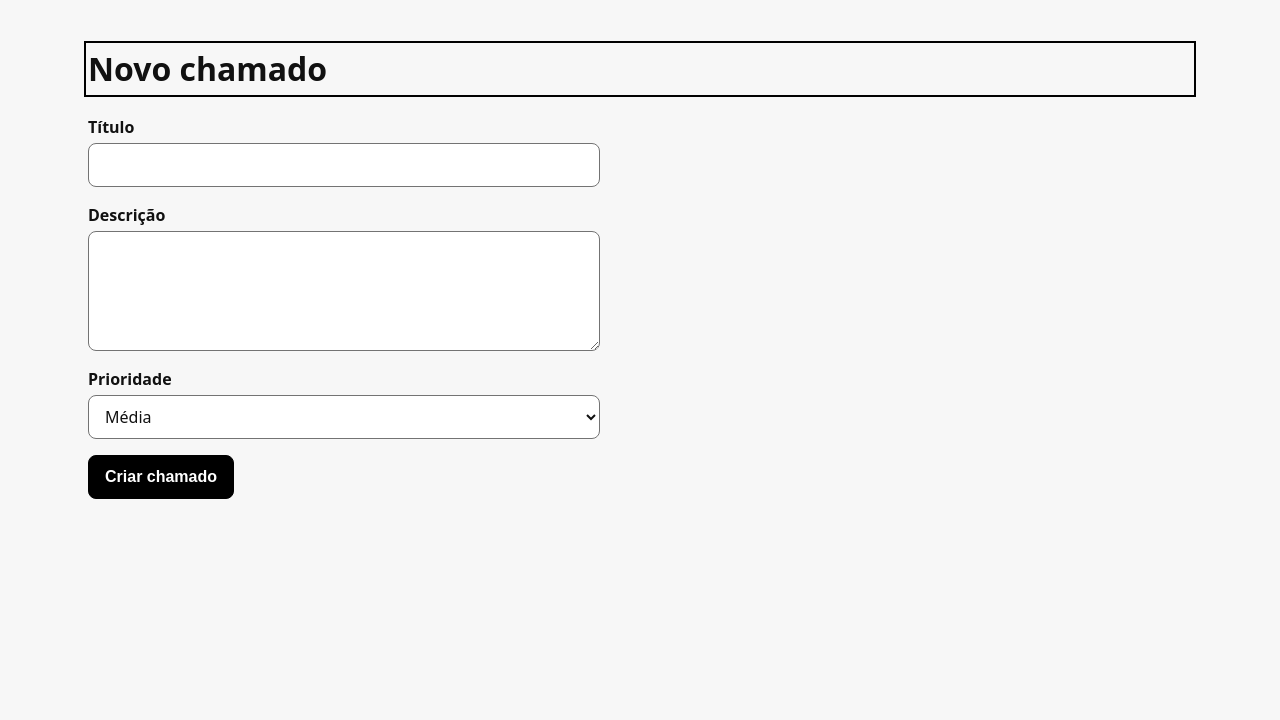
Test: TicketCreatePage › does not submit twice and preserves data on failure
This screenshot has width=1280, height=720.
In the field labelled "Título": (344,165) [88,143,600,187], type "Computador não liga"
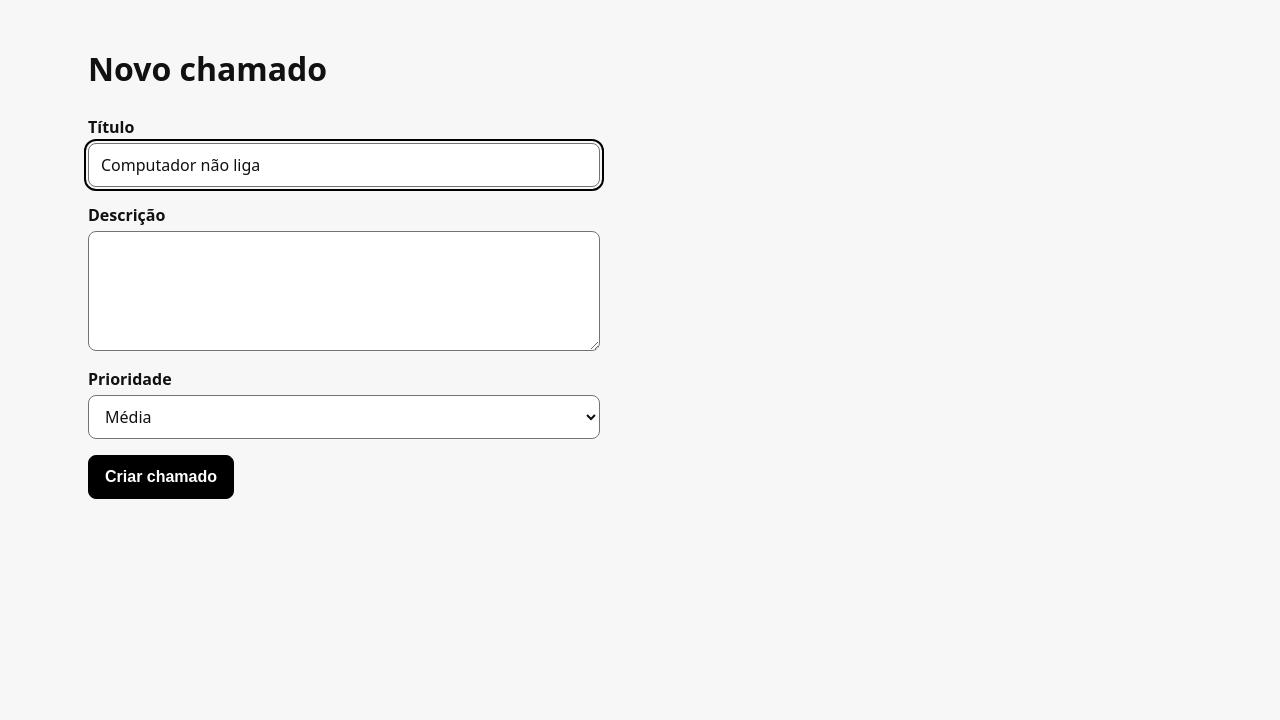
In the text box labelled "Descrição": (344,291) [88,231,600,351], type "Ao pressionar o botão, nenhum LED acende."
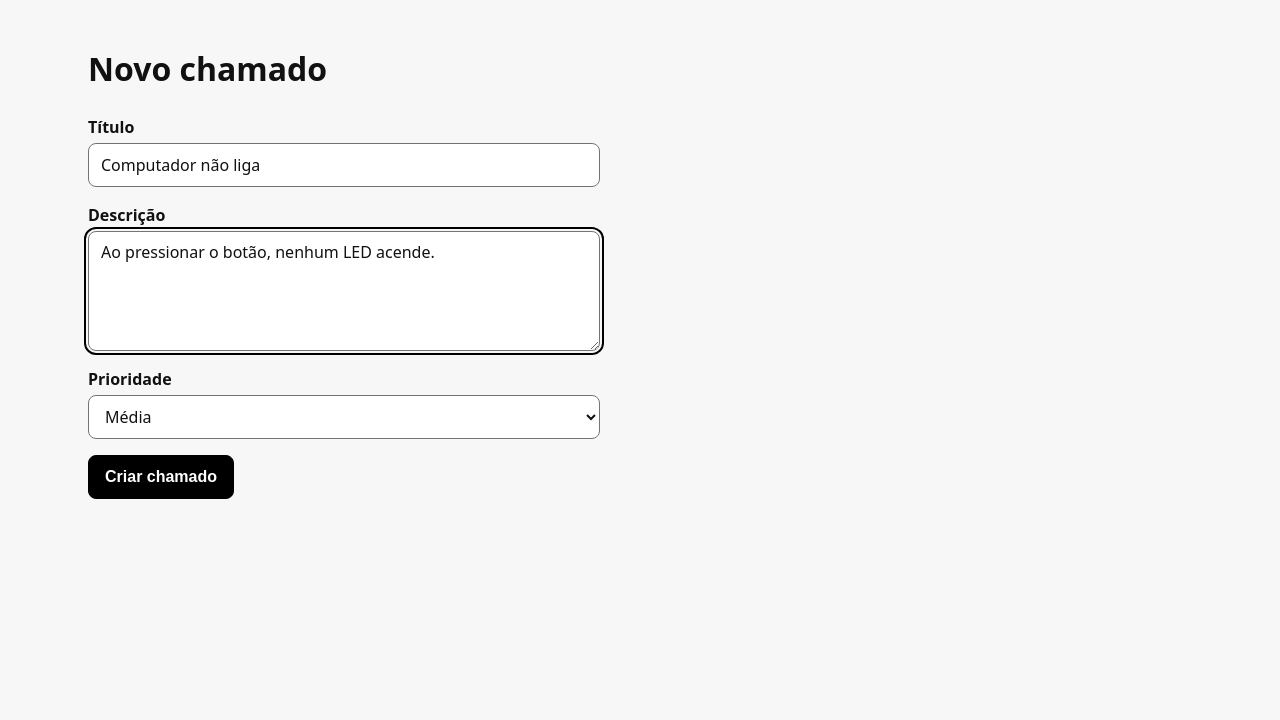
Click the button "Criar chamado": (161,477) [88,455,234,499]
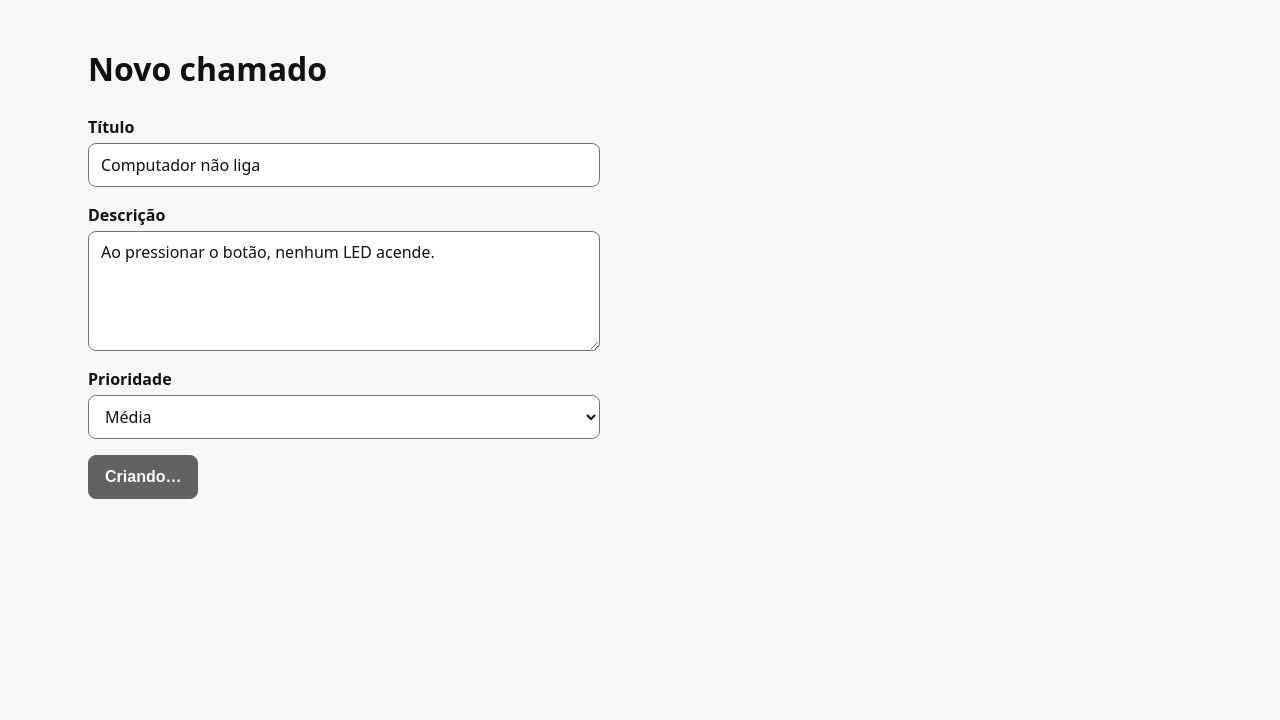
Click the button named "Criar chamado": (143,477) [88,455,198,499]
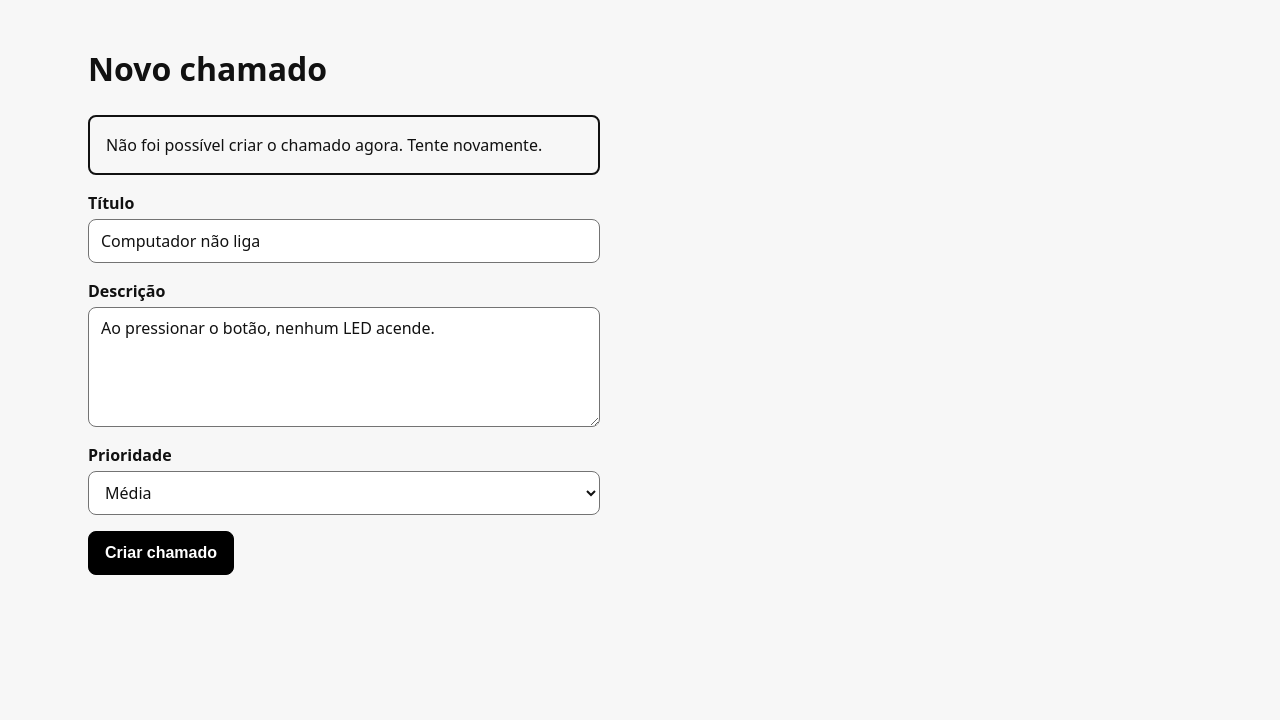
Check: the message "Não foi possível criar o chamado agora. Tente novamente." is shown, box [88,115,600,175]
